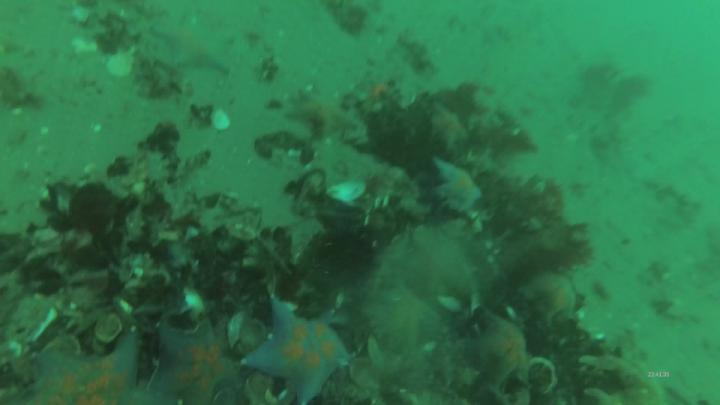holothurian: (307, 135, 410, 203)
starfish: (238, 292, 354, 405), (12, 321, 155, 405), (151, 319, 248, 405), (147, 15, 242, 77), (477, 307, 537, 394), (286, 80, 369, 141), (515, 265, 579, 329), (431, 156, 485, 215)
